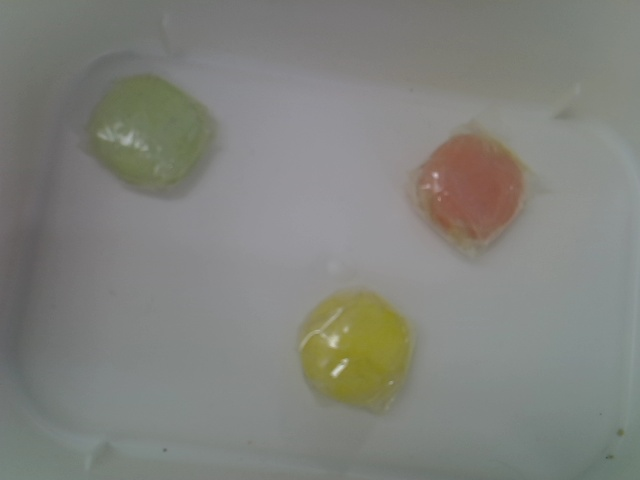씨앗: (87, 76, 223, 196), (295, 289, 418, 411), (414, 133, 529, 243)
